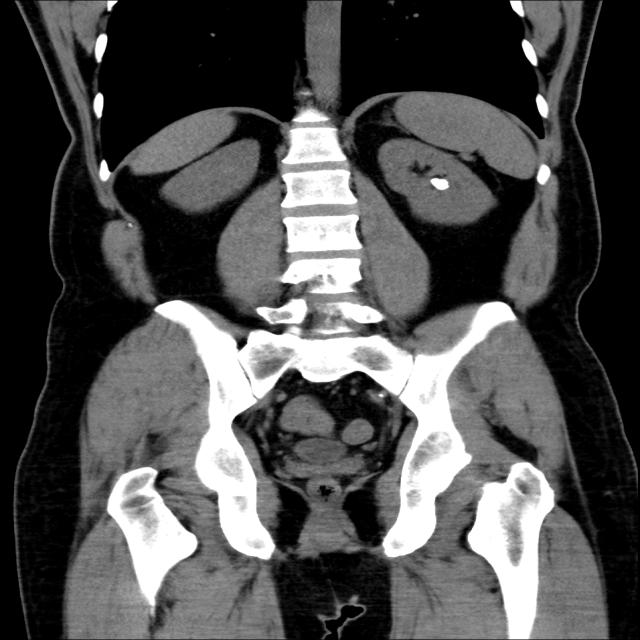kidneystone: (430, 178, 449, 190)
